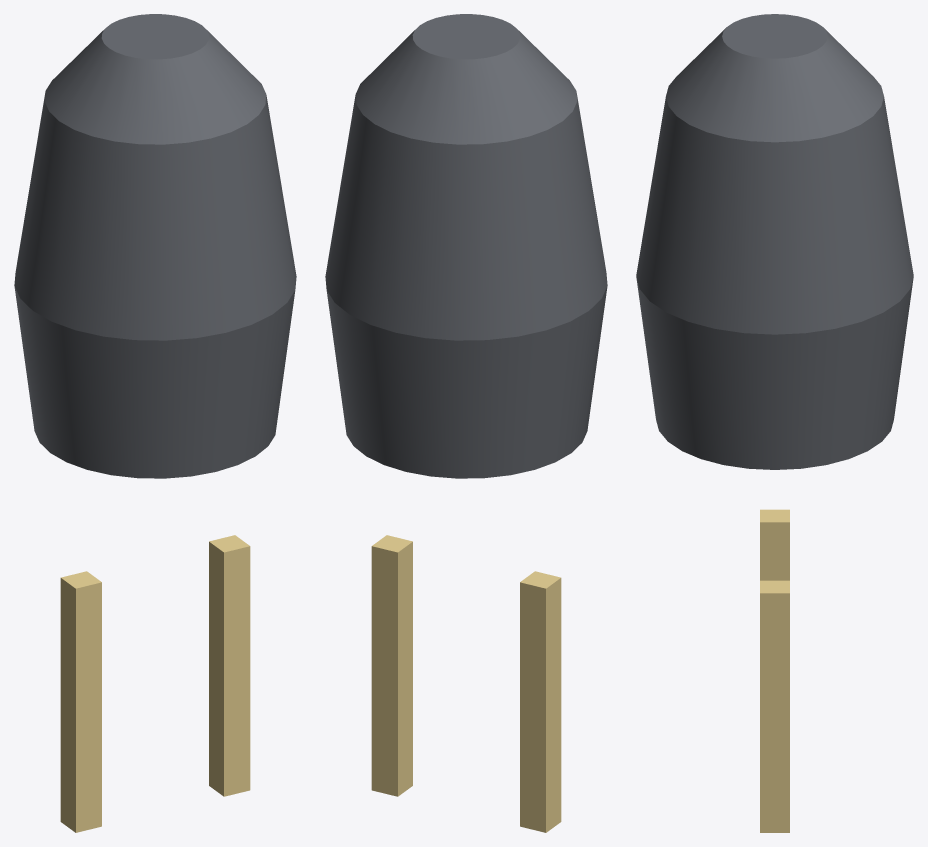
The model's file is thermistor.glb.
The picture shows the model from 3 angles, left to right: view 1: azimuth 30°, elevation 25°; view 2: azimuth 150°, elevation 25°; view 3: azimuth 270°, elevation 25°; orthographic projection.
Parts seen in each view (by area): view 1: epoxy-bead, leads; view 2: epoxy-bead, leads; view 3: epoxy-bead, leads.
Part boxes in pixels (bbox=[...]): epoxy-bead: bbox=[14, 14, 296, 478]; leads: bbox=[60, 535, 250, 832]; epoxy-bead: bbox=[325, 14, 607, 478]; leads: bbox=[371, 535, 561, 832]; epoxy-bead: bbox=[636, 14, 913, 469]; leads: bbox=[760, 509, 789, 832].
Size of the model in its own units: 0.0042 by 0.0126 by 0.0042.
